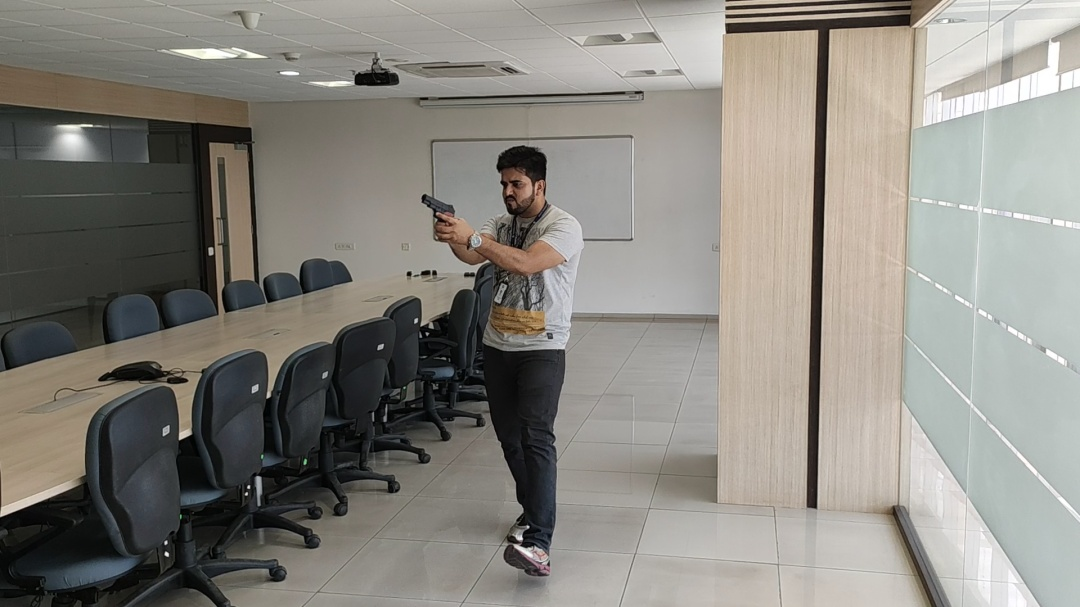gun: (417, 193, 460, 216)
